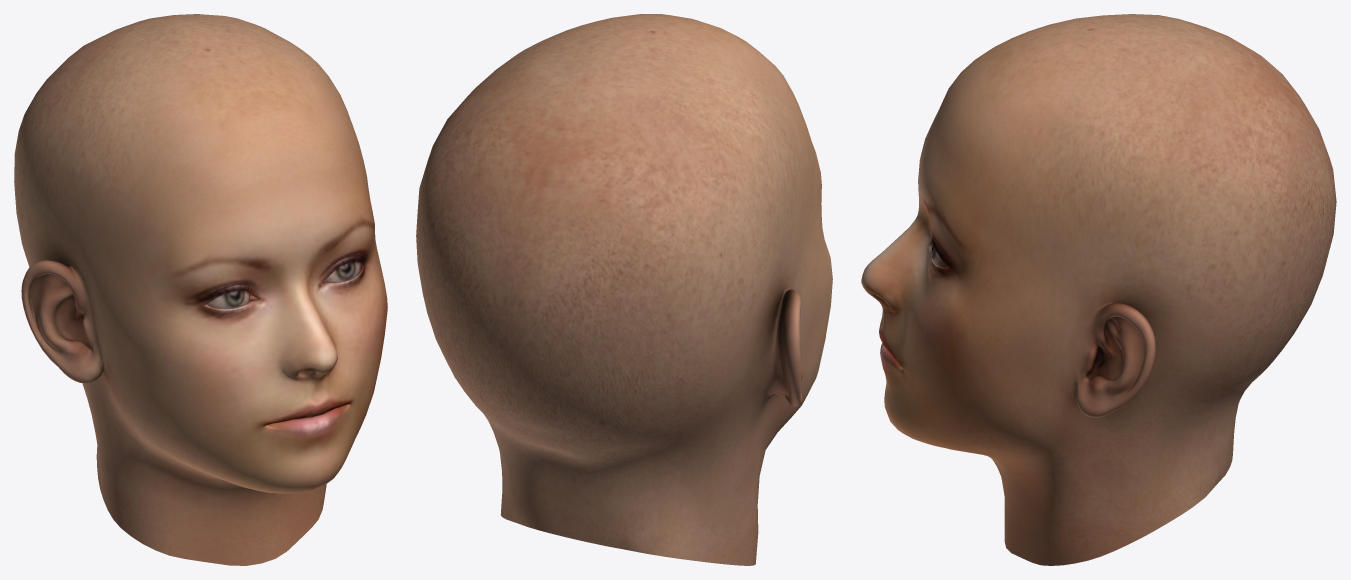
The model's file is Olivia Wilde - 3D Model.fbx.
3 renders of one model, left to right at view 1: azimuth 30°, elevation 25°; view 2: azimuth 150°, elevation 25°; view 3: azimuth 270°, elevation 25°, orthographic. The views are drawn at different scales.
Visible parts, largest first — view 1: Head; view 2: Head; view 3: Head.
Part boxes in pixels (<box>): Head: <box>14,14,387,565</box>; Head: <box>416,14,832,565</box>; Head: <box>861,14,1336,565</box>.
Size of the model in its own units: 0.1917 by 0.2661 by 0.2255.
